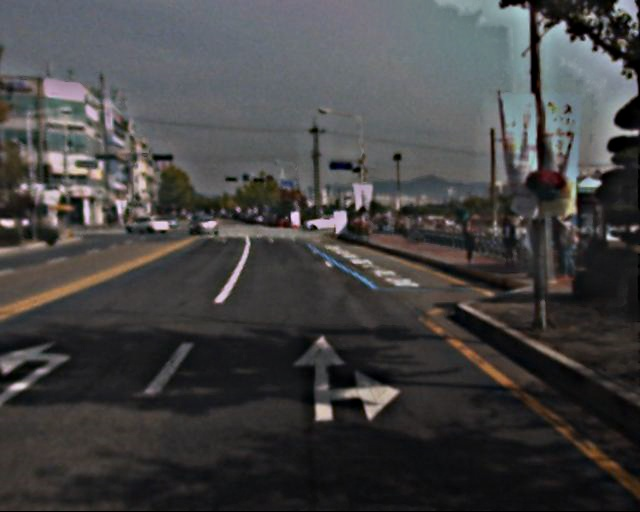person: (556, 214, 585, 284), (498, 217, 521, 272), (459, 219, 479, 268)
